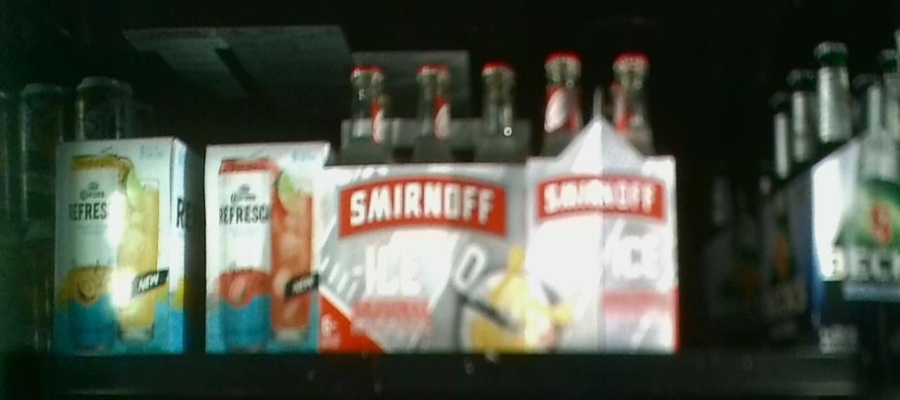bottle: (328, 62, 525, 364), (531, 49, 676, 355), (57, 136, 201, 353), (204, 137, 325, 355)
